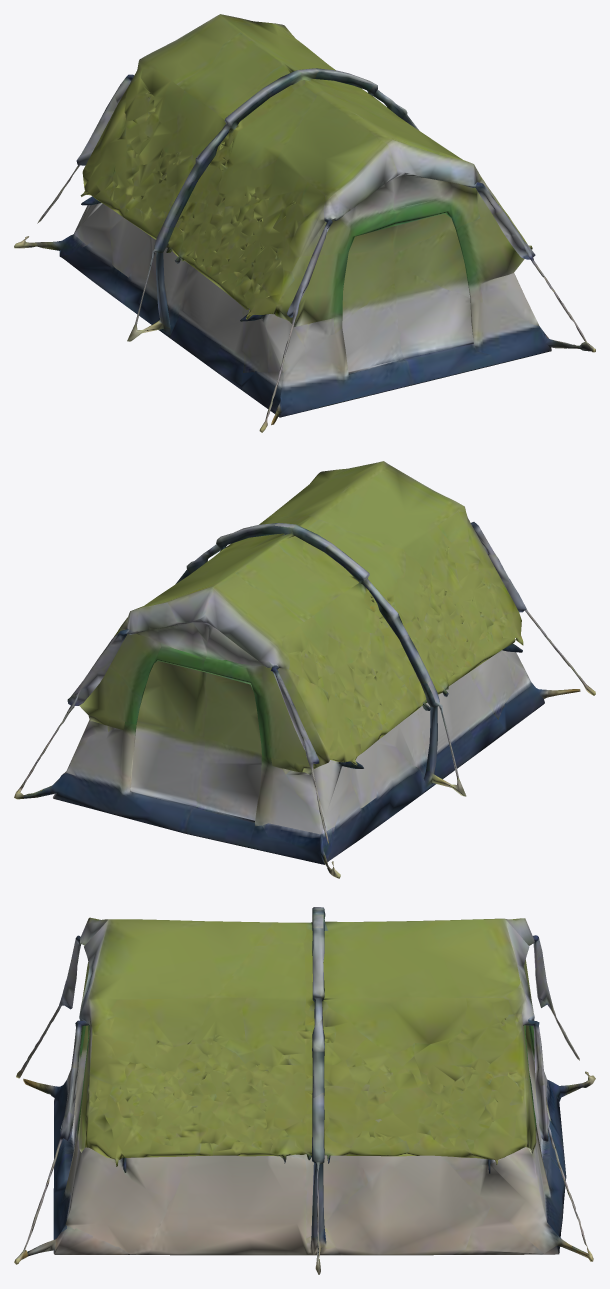
Rendered from tent.glb.
3 renders of one model, top to bottom at view 1: azimuth 30°, elevation 25°; view 2: azimuth 150°, elevation 25°; view 3: azimuth 270°, elevation 25°, orthographic. The views are drawn at different scales.
Visible parts, largest first — view 1: tripo_node_f0232f46-76b6-4e94-bbc7-e6a56cba2471; view 2: tripo_node_f0232f46-76b6-4e94-bbc7-e6a56cba2471; view 3: tripo_node_f0232f46-76b6-4e94-bbc7-e6a56cba2471.
Boxes of the visible parts, x1,y1,x2,y2 form: tripo_node_f0232f46-76b6-4e94-bbc7-e6a56cba2471: (14, 14, 595, 432); tripo_node_f0232f46-76b6-4e94-bbc7-e6a56cba2471: (14, 461, 595, 878); tripo_node_f0232f46-76b6-4e94-bbc7-e6a56cba2471: (14, 907, 595, 1274).
Bounding box in the file's own units: 0.7897 × 0.4984 × 0.9999.
Materials: 1 (1 with a texture image).
